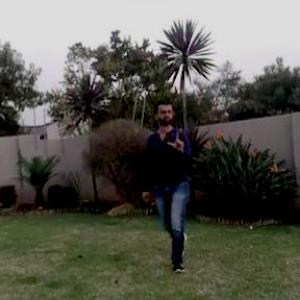land_hand: (164, 123, 190, 155)
